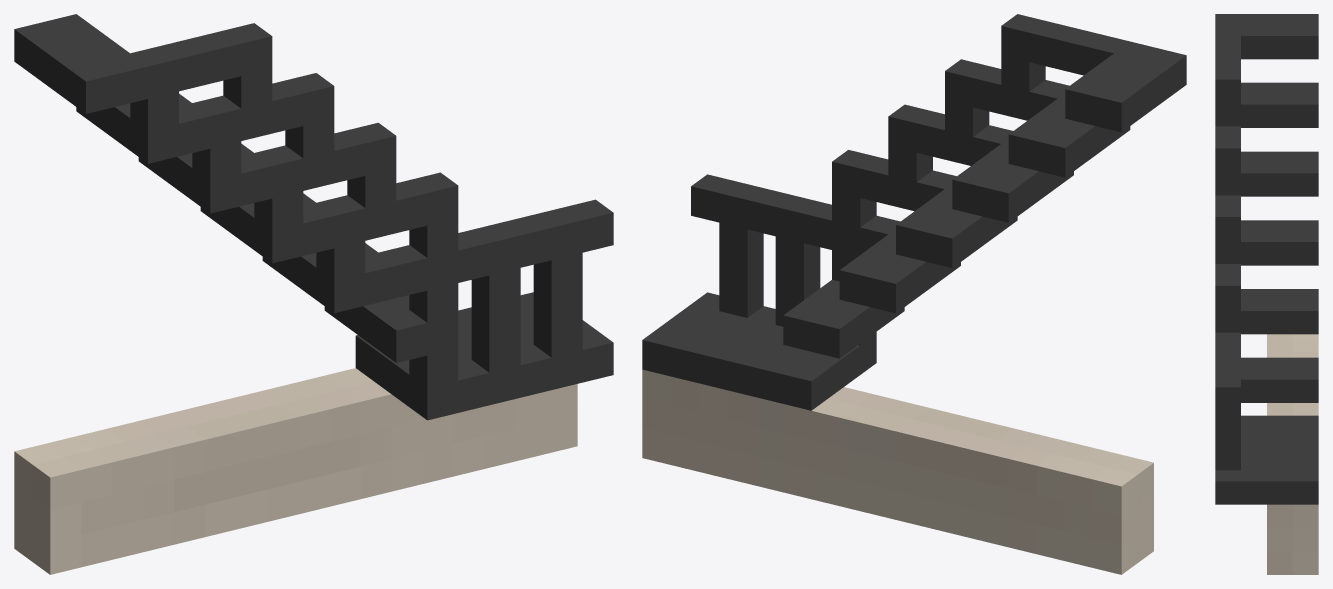
Rendered from palazzo25.glb.
The picture shows the model from 3 angles, left to right: view 1: azimuth 30°, elevation 25°; view 2: azimuth 150°, elevation 25°; view 3: azimuth 270°, elevation 25°; orthographic projection. The views are drawn at different scales.
Parts seen in each view (by area): view 1: Scale.Sx.Marcapiano; view 2: Scale.Sx.Marcapiano; view 3: Scale.Sx.Marcapiano.
Part boxes in pixels (left/top/right/bottom): Scale.Sx.Marcapiano: left=14, top=14, right=613, bottom=574; Scale.Sx.Marcapiano: left=642, top=14, right=1186, bottom=574; Scale.Sx.Marcapiano: left=1215, top=14, right=1318, bottom=574.
Bounding box in the file's own units: 17 × 16 × 4.
Materials: 2 (2 with a texture image).
